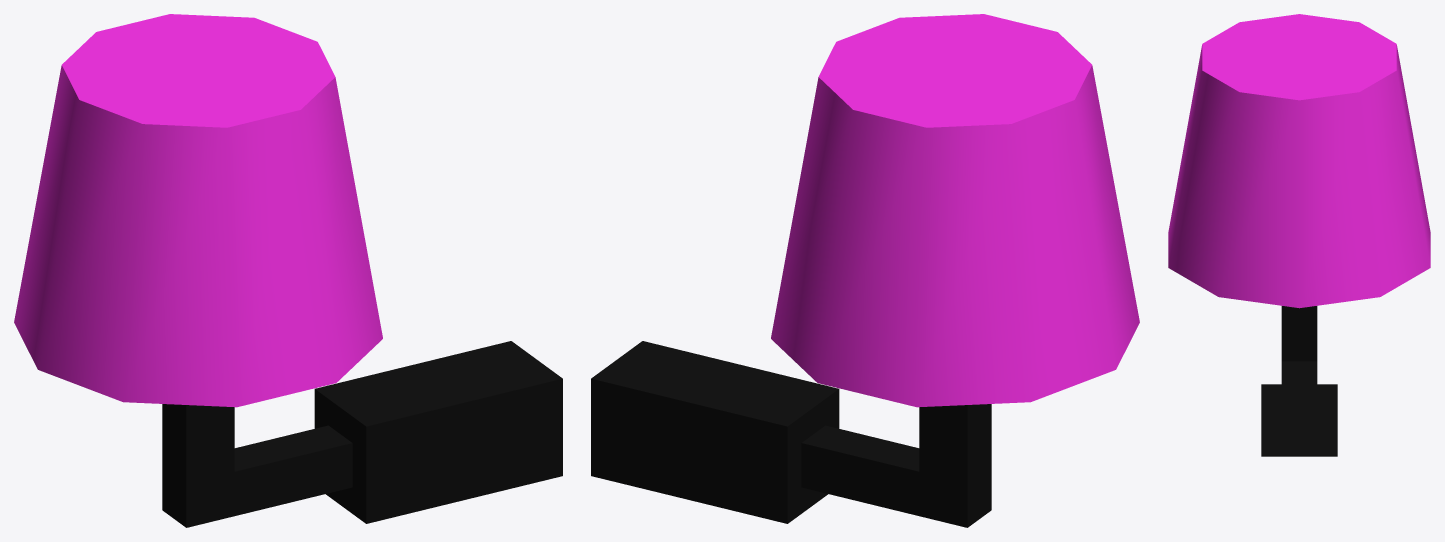
Rendered from den italian2.FBX.
3 renders of one model, left to right at view 1: azimuth 30°, elevation 25°; view 2: azimuth 150°, elevation 25°; view 3: azimuth 270°, elevation 25°, orthographic. The views are drawn at different scales.
Visible parts, largest first — view 1: Cylinder114; view 2: Cylinder114; view 3: Cylinder114.
Boxes of the visible parts, x1,y1,x2,y2 form: Cylinder114: (14,14,562,527); Cylinder114: (591,14,1139,527); Cylinder114: (1168,14,1430,456).
Bounding box in the file's own units: 1.67 × 1.5 × 1.02.
